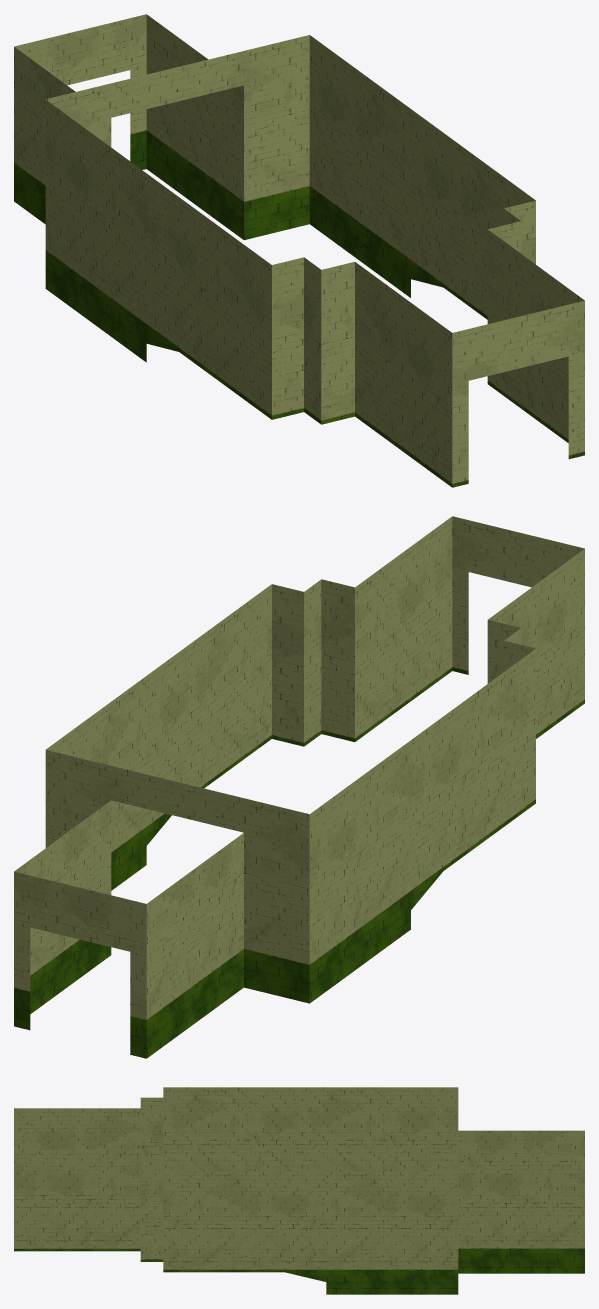
Rendered from Wall_N.fbx.
3 renders of one model, top to bottom at view 1: azimuth 30°, elevation 25°; view 2: azimuth 150°, elevation 25°; view 3: azimuth 270°, elevation 25°, orthographic. The views are drawn at different scales.
Parts seen in each view (by area): view 1: Wall_N; view 2: Wall_N; view 3: Wall_N.
Part boxes in pixels (left/top/right/bottom): Wall_N: left=14, top=14, right=584, bottom=487; Wall_N: left=14, top=516, right=584, bottom=1058; Wall_N: left=14, top=1087, right=584, bottom=1294.
Bounding box in the file's own units: 1851 × 1268 × 5320.
